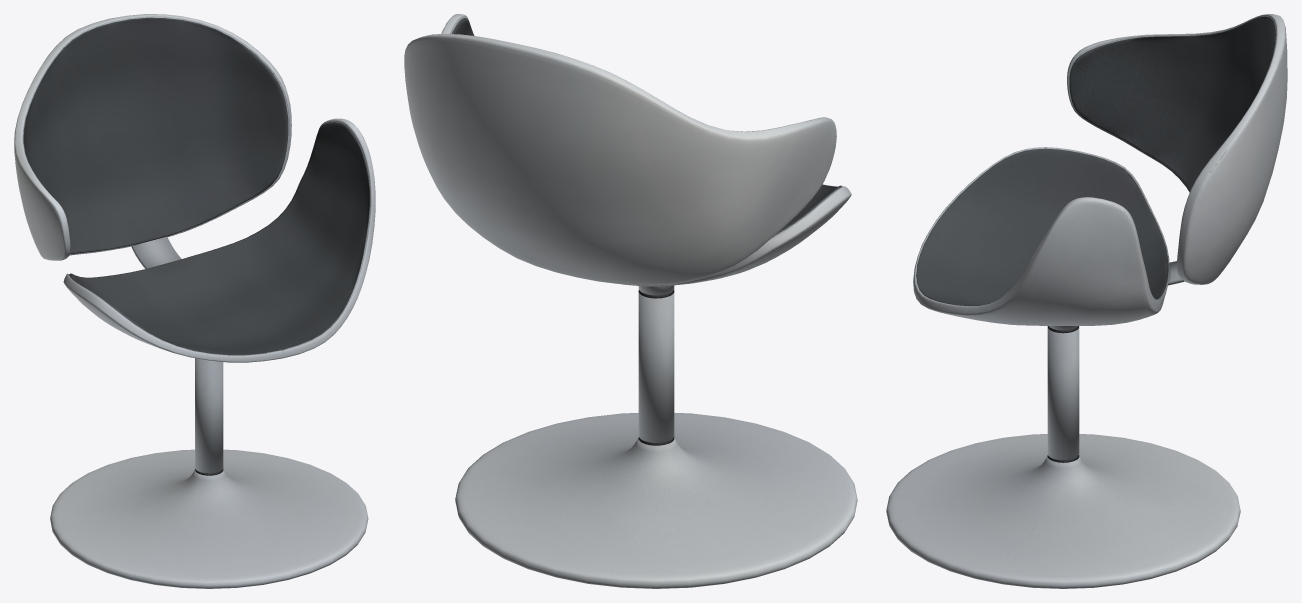
File: cortina_white_black_laquered_metal.glb
3 renders of one model, left to right at view 1: azimuth 30°, elevation 25°; view 2: azimuth 150°, elevation 25°; view 3: azimuth 270°, elevation 25°, orthographic. The views are drawn at different scales.
Visible parts, largest first — view 1: cortina-white_-_black; view 2: cortina-white_-_black; view 3: cortina-white_-_black.
Boxes of the visible parts, bbox=[...] form: cortina-white_-_black: bbox=[14, 14, 375, 588]; cortina-white_-_black: bbox=[404, 14, 857, 588]; cortina-white_-_black: bbox=[886, 14, 1287, 588].
Size of the model in its own units: 0.6117 by 0.827 by 0.6238.
Materials: 1 (1 with a texture image).
